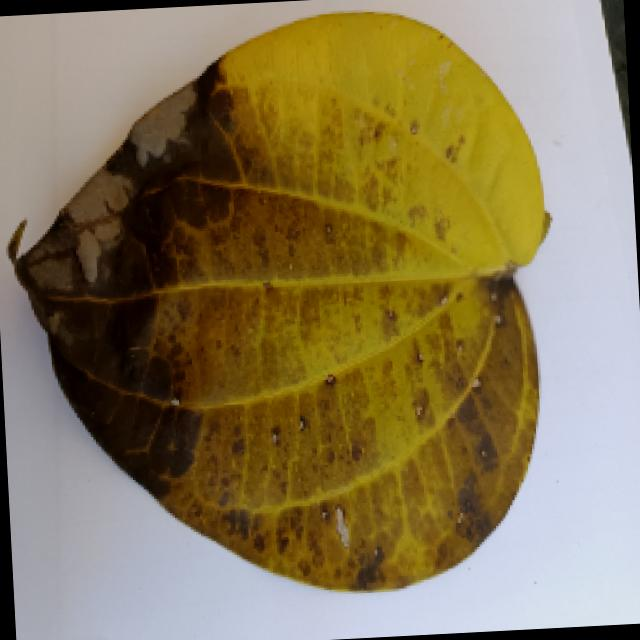slow-decline: (4, 3, 568, 608)
